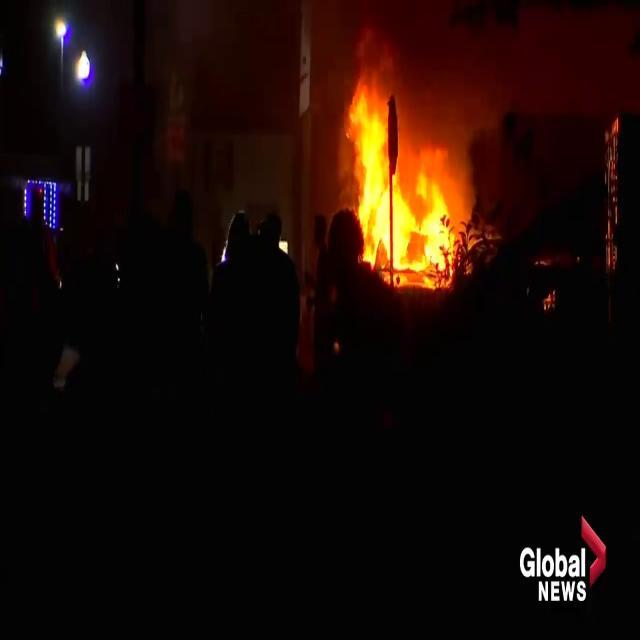Fire: (339, 69, 466, 287)
